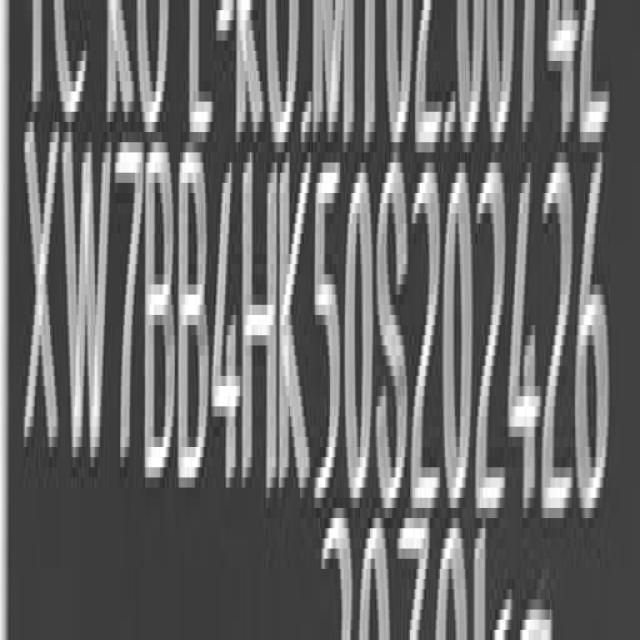0: (444, 165, 474, 514), (346, 164, 374, 506)
2: (544, 158, 575, 523), (475, 164, 505, 522), (412, 163, 441, 515)
4: (511, 160, 542, 524), (211, 166, 243, 499)
5: (313, 162, 342, 506)
6: (574, 155, 609, 533)
7: (111, 141, 147, 483)
B: (144, 151, 177, 489), (180, 151, 210, 496)
H: (246, 159, 277, 501)
K: (280, 154, 312, 504)
S: (376, 155, 410, 512)
W: (61, 124, 109, 475)
X: (21, 126, 62, 469)
